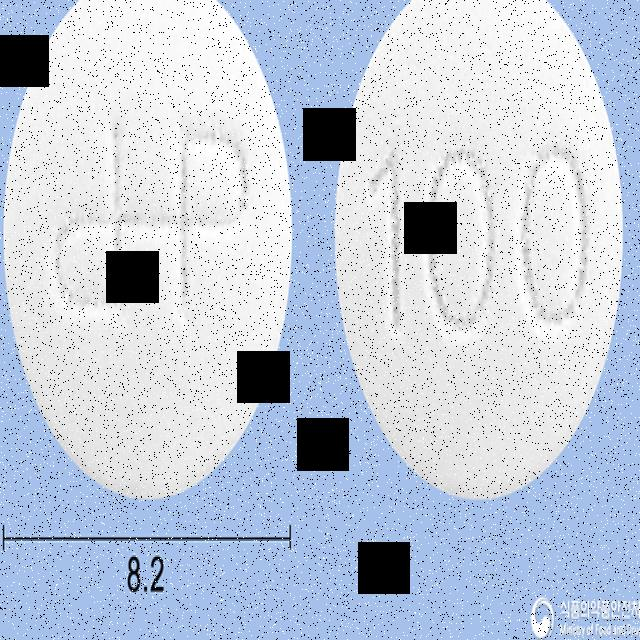Carbastar: (0, 0, 295, 509)
